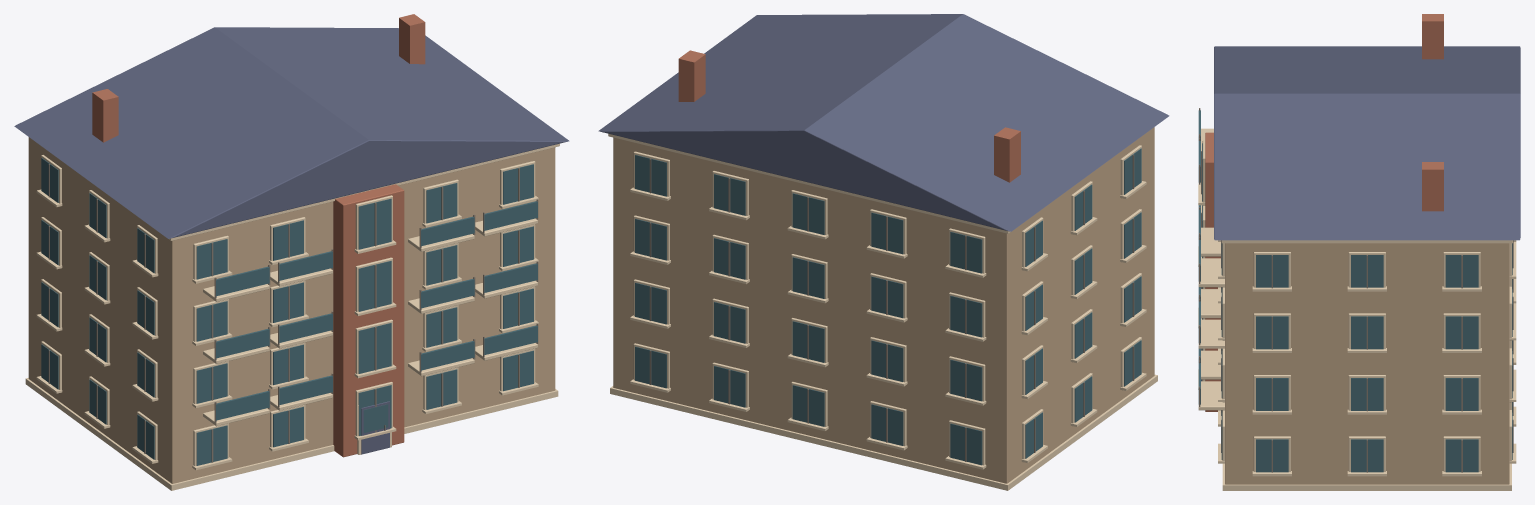
The model's file is walk-up-apartment.glb.
3 renders of one model, left to right at view 1: azimuth 30°, elevation 25°; view 2: azimuth 150°, elevation 25°; view 3: azimuth 270°, elevation 25°, orthographic. The views are drawn at different scales.
Visible parts, largest first — view 1: walk-up-apartment; view 2: walk-up-apartment; view 3: walk-up-apartment.
Boxes of the visible parts, x1,y1,x2,y2 form: walk-up-apartment: [14, 14, 569, 490]; walk-up-apartment: [598, 14, 1169, 490]; walk-up-apartment: [1198, 14, 1520, 490].
Bounding box in the file's own units: 20.96 × 15.4 × 14.71.
